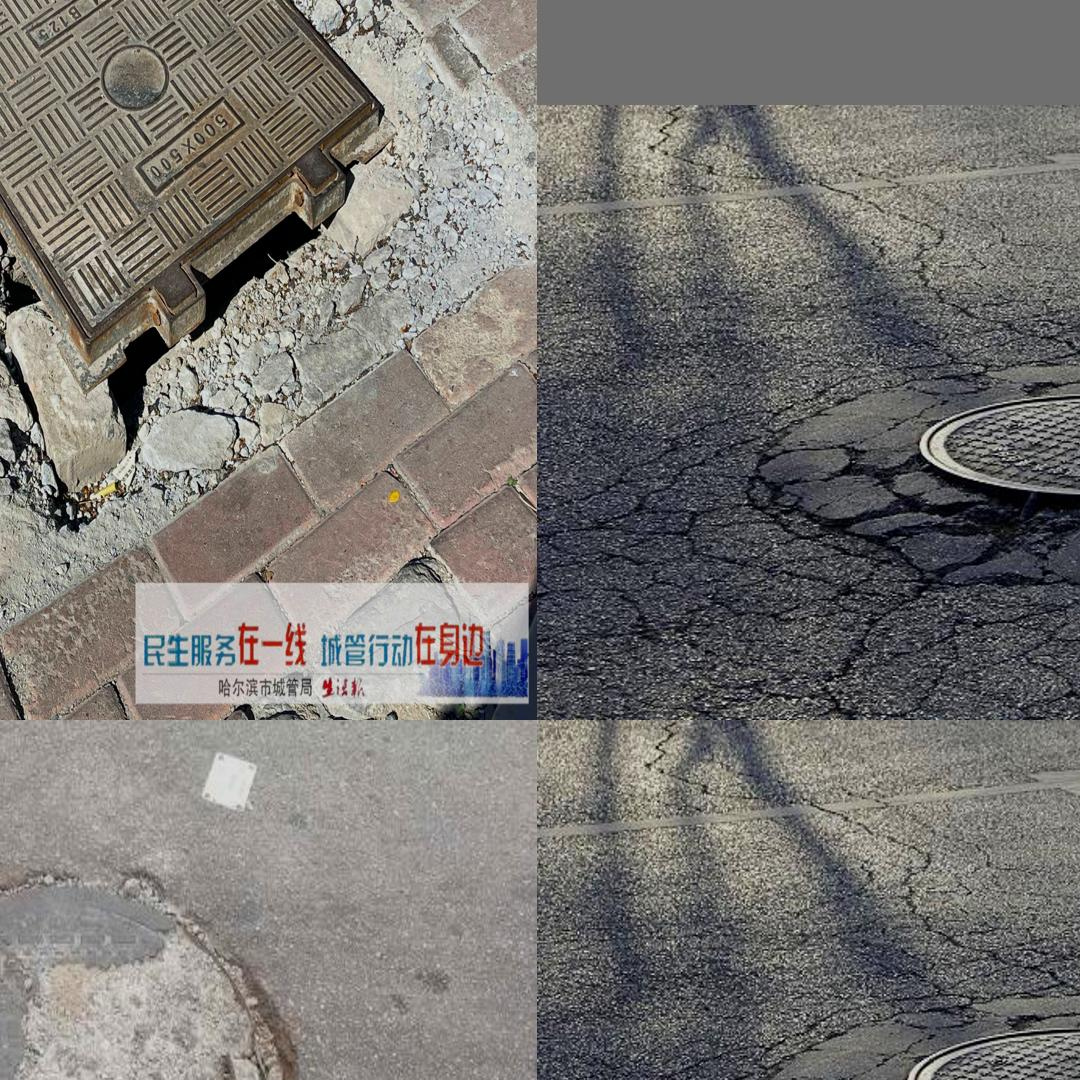circle: (0, 0, 491, 527), (742, 332, 1080, 616), (0, 842, 319, 1080), (721, 982, 1080, 1080)
